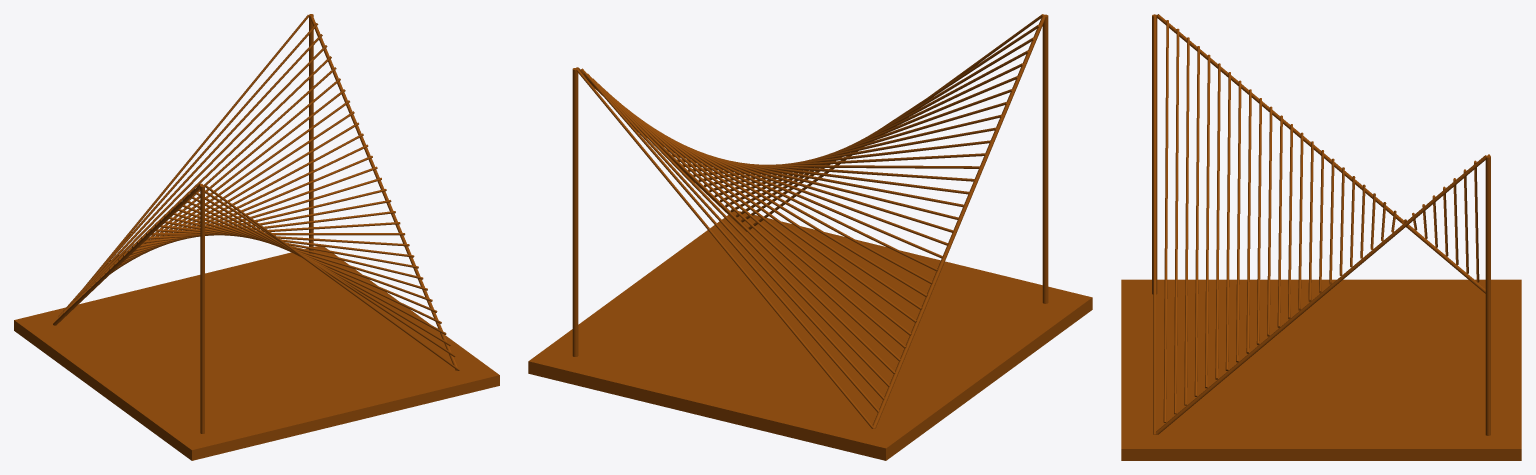
The model's file is hiper.glb.
3 renders of one model, left to right at view 1: azimuth 30°, elevation 25°; view 2: azimuth 150°, elevation 25°; view 3: azimuth 270°, elevation 25°, orthographic. The views are drawn at different scales.
Visible parts, largest first — view 1: Object_2; view 2: Object_2; view 3: Object_2.
Part boxes in pixels (left/top/right/bottom): Object_2: left=14, top=14, right=499, bottom=460; Object_2: left=528, top=14, right=1092, bottom=460; Object_2: left=1121, top=14, right=1521, bottom=460.
Size of the model in its own units: 300 by 241 by 300.
